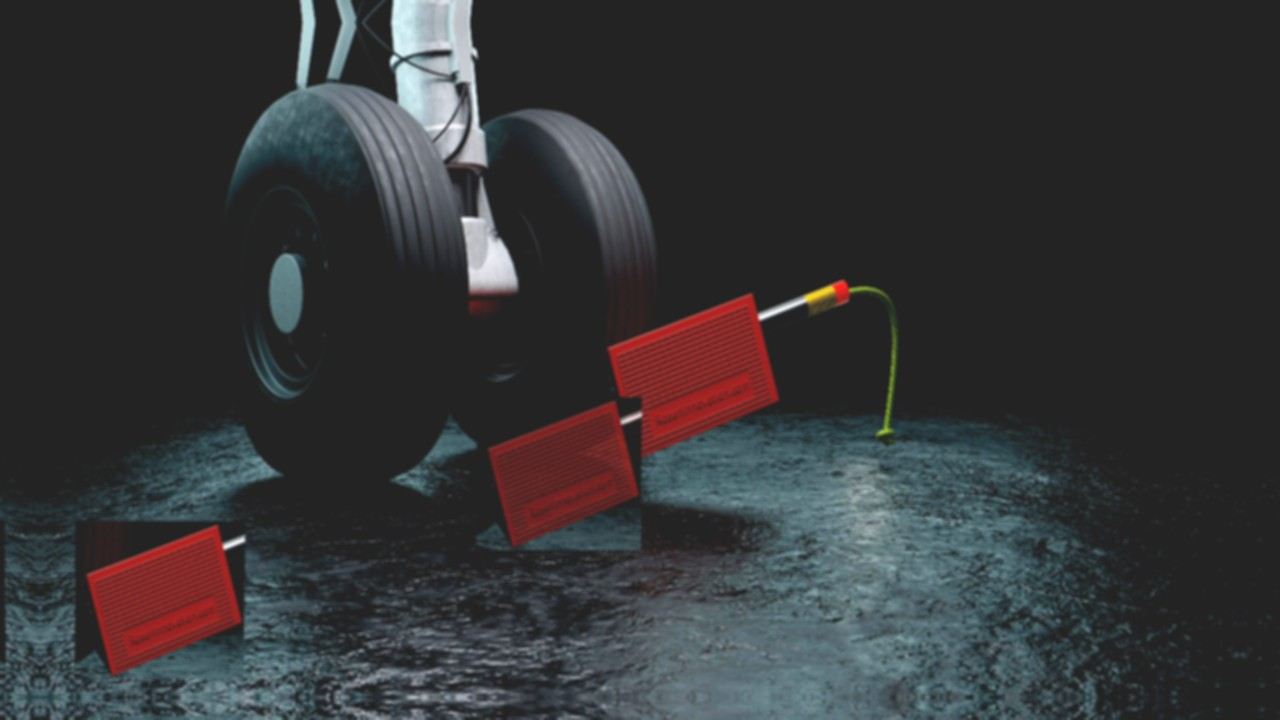chock: (594, 288, 782, 464), (74, 520, 245, 679), (476, 396, 642, 551)
wheel: (212, 79, 470, 490), (440, 103, 661, 461)
